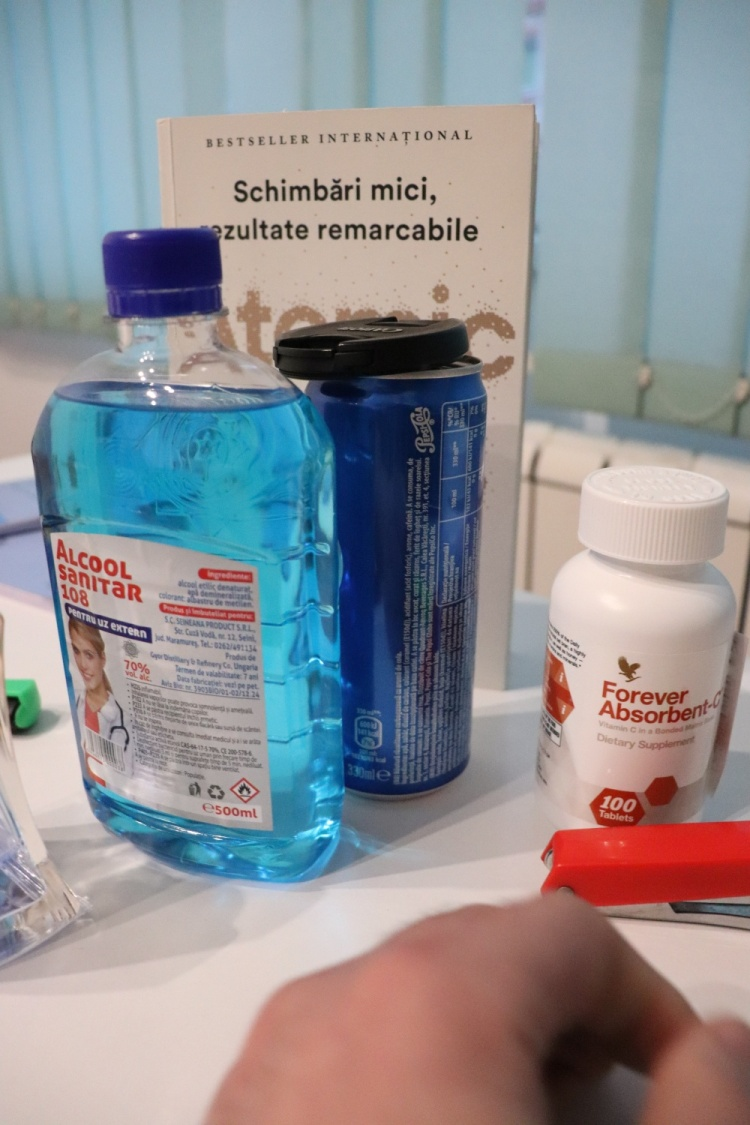pepsi: (291, 359, 494, 801)
